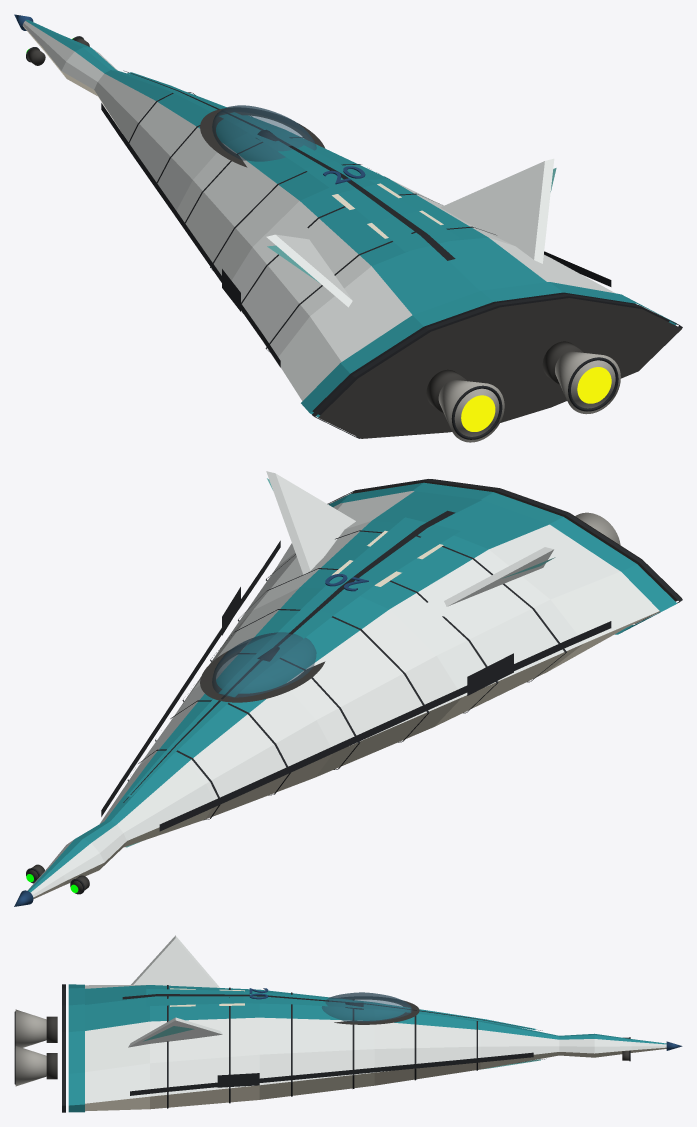
File: Ship_PyramidLifter_855868.glb
The picture shows the model from 3 angles, top to bottom: view 1: azimuth 30°, elevation 25°; view 2: azimuth 150°, elevation 25°; view 3: azimuth 270°, elevation 25°; orthographic projection. The views are drawn at different scales.
Visible parts, largest first — view 1: Fuselage_MainPyramidalLiftingBody, EngineDeck_AftFacetedDarkMountPlate, PaintDorsalSplit_PrimaryCentralArmor, TailFin_Right_ShortCantedStabilizer, EngineDeck_AftOuterArmorCollar, CanopyGlass_LowInsetSmokedDome, Nose_FacetedRamNeedle, EngineEmitter, EngineBell_LeftWide_BurnishedNozzle, EngineBell_RightWide_BurnishedNozzle, TailFin_Left_ShortCantedStabilizer, CanopyFrame_LowInsetArmoredOvalRim (+5 smaller); view 2: Fuselage_MainPyramidalLiftingBody, PaintDorsalSplit_PrimaryCentralArmor, CanopyGlass_LowInsetSmokedDome, EngineDeck_AftOuterArmorCollar, TailFin_Right_ShortCantedStabilizer, Nose_FacetedRamNeedle, SideChinePanel_Left_LongDarkArmorJoint, CanopyFrame_LowInsetArmoredOvalRim, HullLongitudinalSeam_DorsalRidgeDarkLine, TailFin_Left_ShortCantedStabilizer, SideChinePanel_Right_LongDarkArmorJoint, EngineDeck_AftDarkCompressionSeal (+2 smaller); view 3: Fuselage_MainPyramidalLiftingBody, PaintDorsalSplit_PrimaryCentralArmor, TailFin_Left_ShortCantedStabilizer, EngineDeck_AftOuterArmorCollar, CanopyGlass_LowInsetSmokedDome, SideChinePanel_Right_LongDarkArmorJoint, Nose_FacetedRamNeedle, TailFin_Right_ShortCantedStabilizer, EngineBell_RightWide_BurnishedNozzle, EngineBell_LeftWide_BurnishedNozzle, HullLongitudinalSeam_DorsalRidgeDarkLine, CanopyFrame_LowInsetArmoredOvalRim (+4 smaller).
Part boxes in pixels (x1=…): Fuselage_MainPyramidalLiftingBody: x1=94, y1=70, x2=669, y2=415; EngineDeck_AftFacetedDarkMountPlate: x1=318, y1=298, x2=681, y2=438; PaintDorsalSplit_PrimaryCentralArmor: x1=127, y1=72, x2=460, y2=251; TailFin_Right_ShortCantedStabilizer: x1=440, y1=158, x2=554, y2=263; EngineDeck_AftOuterArmorCollar: x1=301, y1=282, x2=676, y2=417; CanopyGlass_LowInsetSmokedDome: x1=212, y1=105, x2=316, y2=161; Nose_FacetedRamNeedle: x1=22, y1=20, x2=117, y2=95; EngineEmitter: x1=461, y1=367, x2=611, y2=431; EngineBell_LeftWide_BurnishedNozzle: x1=438, y1=380, x2=504, y2=442; EngineBell_RightWide_BurnishedNozzle: x1=555, y1=351, x2=620, y2=414; TailFin_Left_ShortCantedStabilizer: x1=266, y1=234, x2=352, y2=307; CanopyFrame_LowInsetArmoredOvalRim: x1=200, y1=108, x2=325, y2=167; Fuselage_MainPyramidalLiftingBody: x1=100, y1=491, x2=659, y2=847; PaintDorsalSplit_PrimaryCentralArmor: x1=127, y1=517, x2=460, y2=796; CanopyGlass_LowInsetSmokedDome: x1=212, y1=632, x2=316, y2=697; EngineDeck_AftOuterArmorCollar: x1=329, y1=482, x2=676, y2=634; TailFin_Right_ShortCantedStabilizer: x1=266, y1=471, x2=355, y2=574; Nose_FacetedRamNeedle: x1=27, y1=821, x2=126, y2=899; SideChinePanel_Left_LongDarkArmorJoint: x1=159, y1=621, x2=611, y2=831; CanopyFrame_LowInsetArmoredOvalRim: x1=200, y1=643, x2=325, y2=702; HullLongitudinalSeam_DorsalRidgeDarkLine: x1=123, y1=510, x2=455, y2=802; TailFin_Left_ShortCantedStabilizer: x1=444, y1=547, x2=553, y2=606; SideChinePanel_Right_LongDarkArmorJoint: x1=101, y1=540, x2=280, y2=816; EngineDeck_AftDarkCompressionSeal: x1=327, y1=479, x2=682, y2=623; Fuselage_MainPyramidalLiftingBody: x1=85, y1=985, x2=559, y2=1111; PaintDorsalSplit_PrimaryCentralArmor: x1=146, y1=988, x2=535, y2=1030; TailFin_Left_ShortCantedStabilizer: x1=131, y1=935, x2=219, y2=987; EngineDeck_AftOuterArmorCollar: x1=68, y1=984, x2=84, y2=1112; CanopyGlass_LowInsetSmokedDome: x1=322, y1=992, x2=412, y2=1022; SideChinePanel_Right_LongDarkArmorJoint: x1=130, y1=1052, x2=533, y2=1095; Nose_FacetedRamNeedle: x1=559, y1=1033, x2=666, y2=1057; TailFin_Right_ShortCantedStabilizer: x1=128, y1=1017, x2=222, y2=1047; EngineBell_RightWide_BurnishedNozzle: x1=15, y1=1046, x2=46, y2=1086; EngineBell_LeftWide_BurnishedNozzle: x1=15, y1=1009, x2=46, y2=1047; HullLongitudinalSeam_DorsalRidgeDarkLine: x1=122, y1=994, x2=542, y2=1030; CanopyFrame_LowInsetArmoredOvalRim: x1=334, y1=997, x2=419, y2=1024.
Size of the model in its own units: 3.12 by 1.43 by 7.67.
